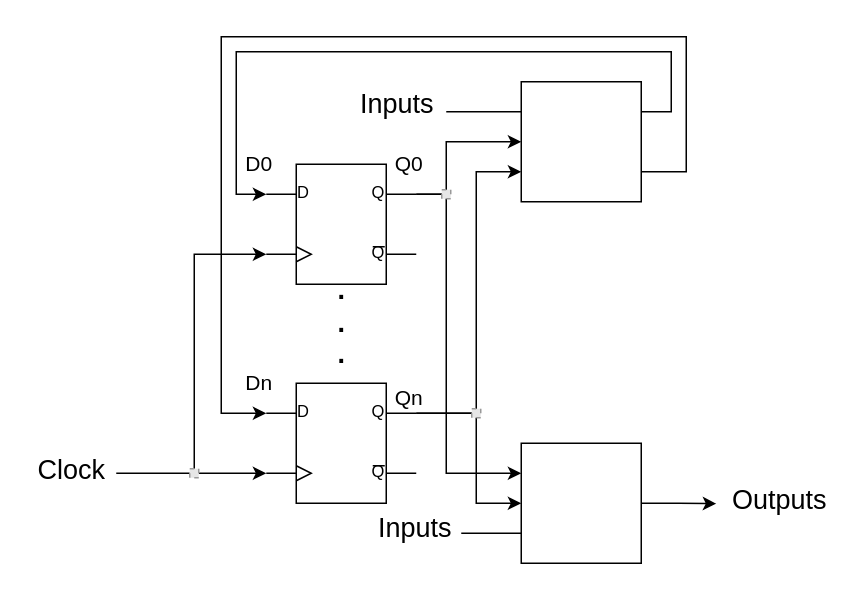
Image size: 864x590. Some labels were removed from this diagram. Grey dashed boxes stand in for pictures. Here are the shapes that lost their labels. From the top down, the box of each, then its label:
(520, 80, 641, 202): Next State Decoder
(520, 442, 641, 563): Output Decoder
